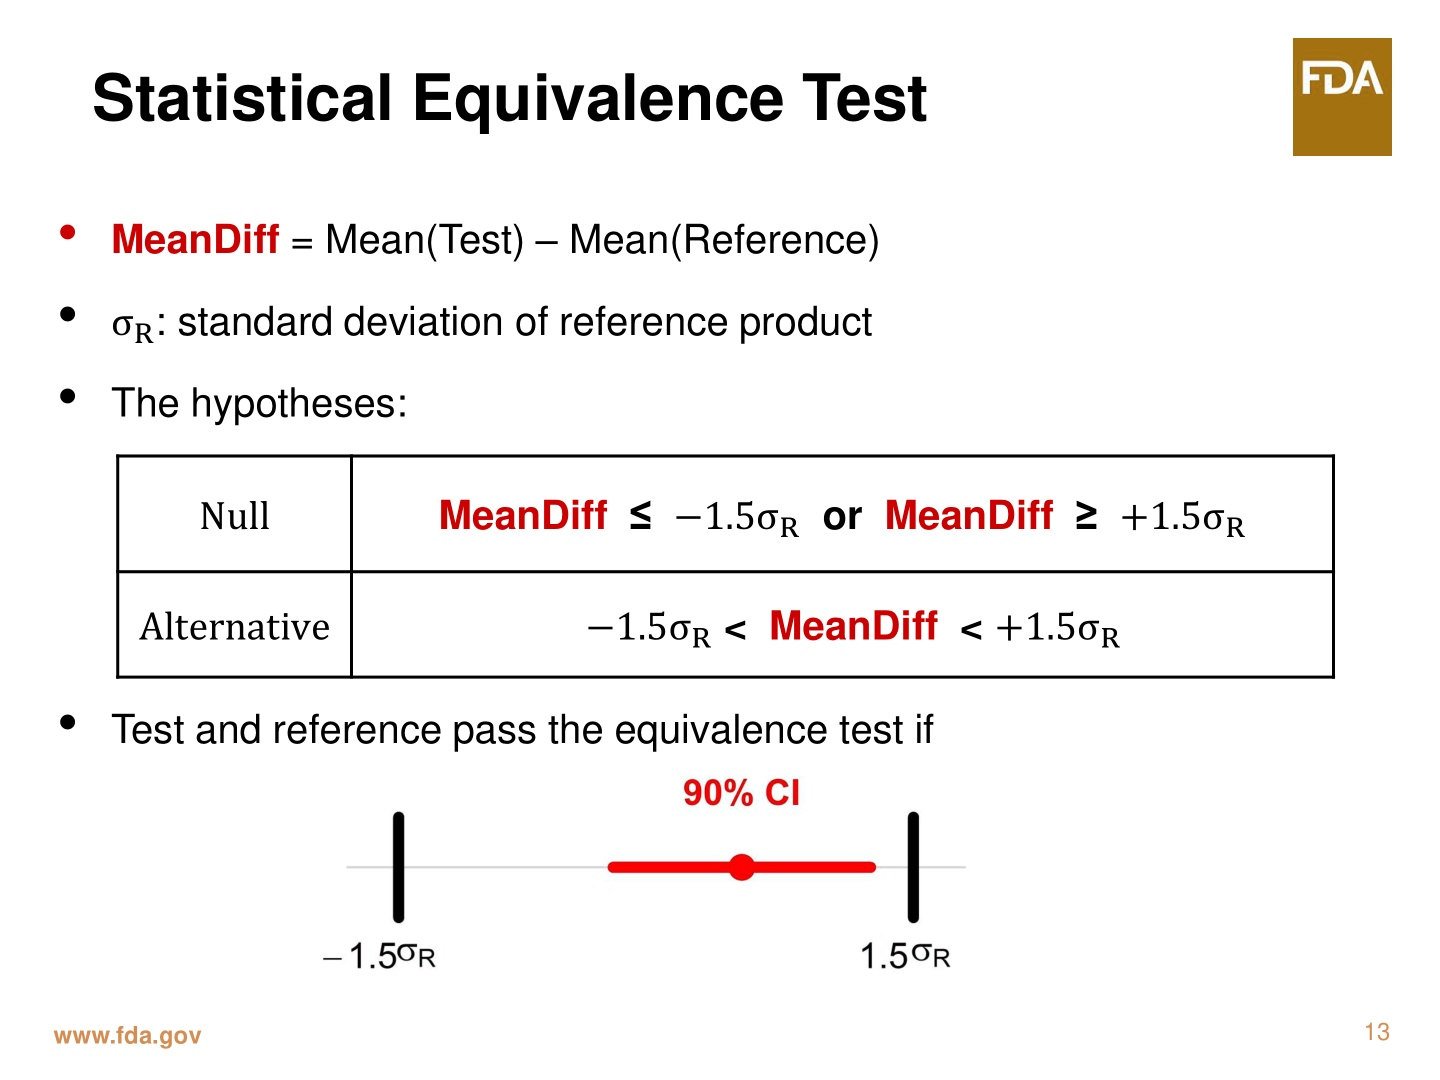full_lined: (115, 453, 1335, 680)
